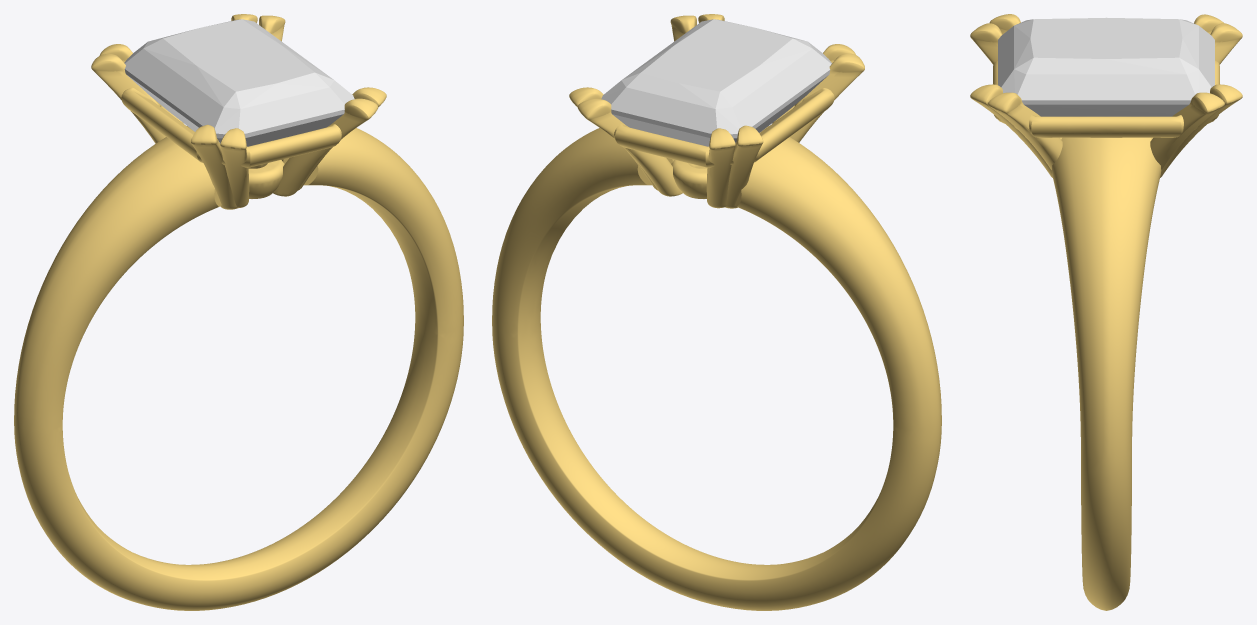
Rendered from CamRadiantYGeng_blender.glb.
3 views of the same model, side by side, from view 1: azimuth 30°, elevation 25°; view 2: azimuth 150°, elevation 25°; view 3: azimuth 270°, elevation 25° (orthographic).
Parts seen in each view (by area): view 1: v2 Cam YG for 3d model, Cam radiant dia for 3d model; view 2: v2 Cam YG for 3d model, Cam radiant dia for 3d model; view 3: v2 Cam YG for 3d model, Cam radiant dia for 3d model.
Part boxes in pixels (x1=…): v2 Cam YG for 3d model: x1=14, y1=14, x2=463, y2=610; Cam radiant dia for 3d model: x1=124, y1=19, x2=354, y2=146; v2 Cam YG for 3d model: x1=492, y1=14, x2=941, y2=610; Cam radiant dia for 3d model: x1=601, y1=19, x2=831, y2=146; v2 Cam YG for 3d model: x1=970, y1=14, x2=1242, y2=610; Cam radiant dia for 3d model: x1=998, y1=17, x2=1214, y2=116.
Bounding box in the file's own units: 20.1 × 23.68 × 10.67.
